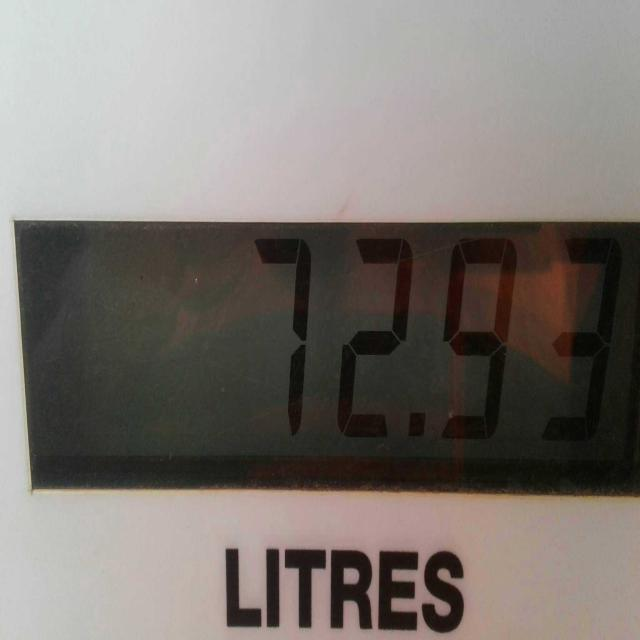.: (398, 389, 437, 464)
2: (328, 228, 415, 456)
3: (531, 229, 621, 472)
7: (234, 223, 339, 456)
9: (430, 224, 516, 475)
